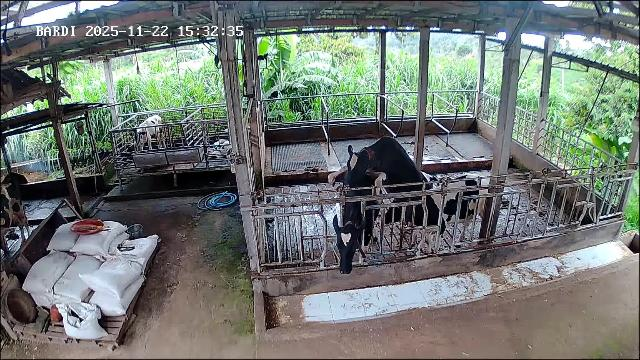mounting: (326, 135, 434, 197)
